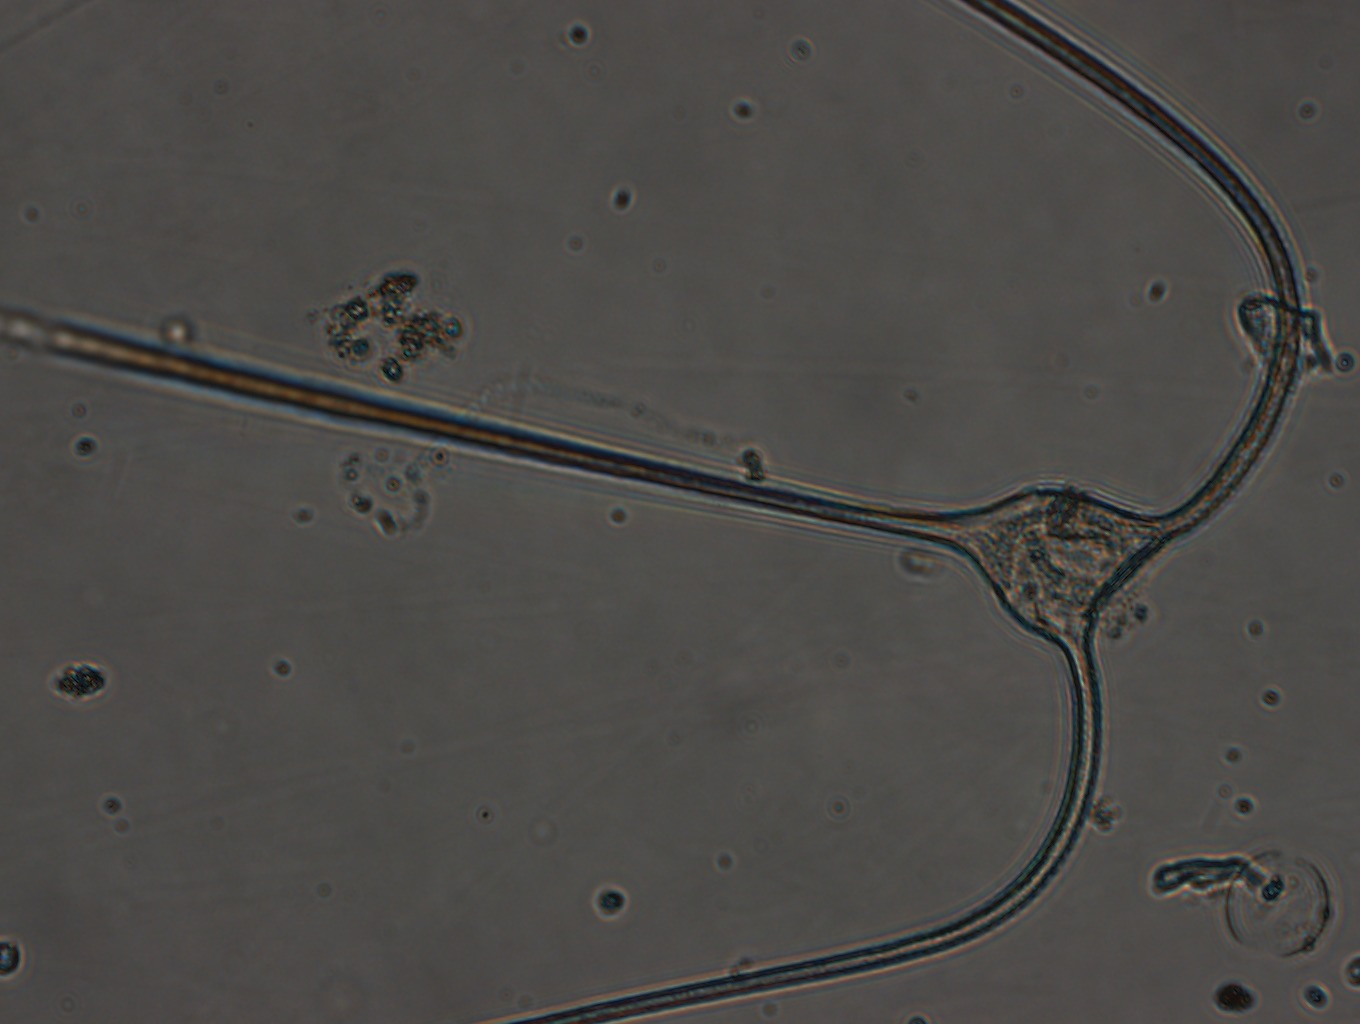ceratium trichoceros: (1, 3, 1309, 1019)
